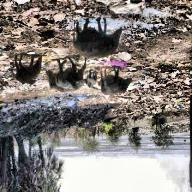boar: (73, 16, 123, 58), (44, 52, 89, 94), (95, 64, 139, 98), (11, 50, 46, 89)
